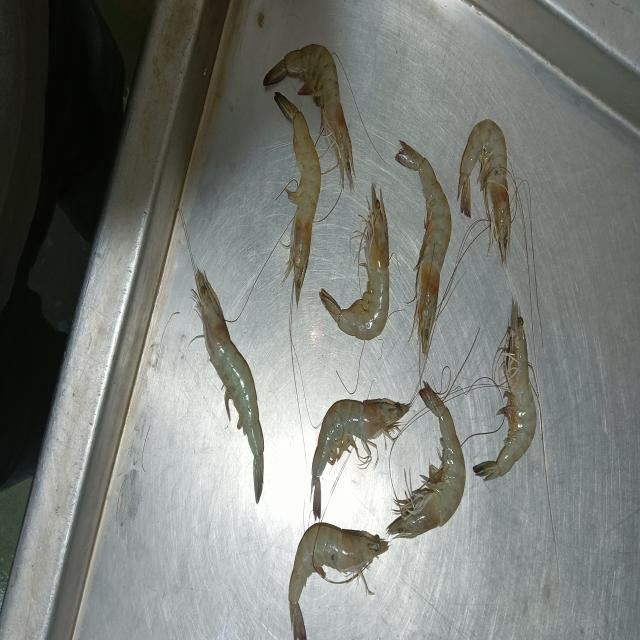shrimp: (193, 270, 263, 502), (265, 44, 354, 187), (387, 383, 465, 538), (311, 399, 411, 518), (396, 141, 450, 361), (474, 301, 538, 479), (289, 524, 387, 639), (321, 184, 389, 339), (275, 94, 320, 306), (459, 119, 509, 263)
